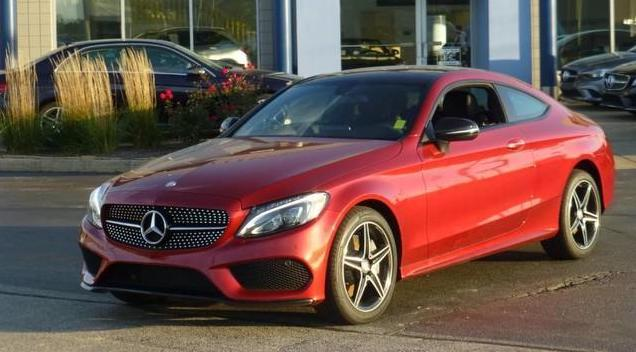C300Coupe: (74, 58, 614, 327)
